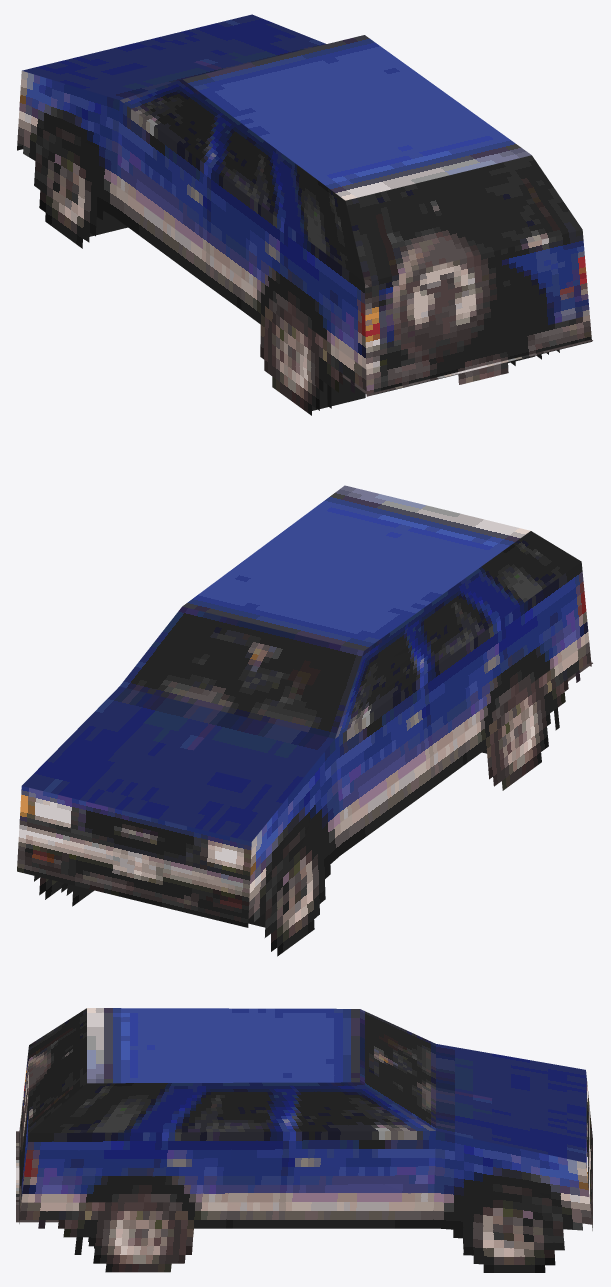
File: car-rodeo.glb
3 renders of one model, top to bottom at view 1: azimuth 30°, elevation 25°; view 2: azimuth 150°, elevation 25°; view 3: azimuth 270°, elevation 25°, orthographic. The views are drawn at different scales.
Visible parts, largest first — view 1: plt0; view 2: plt0; view 3: plt0.
Boxes of the visible parts, x1,y1,x2,y2 form: plt0: (17, 14, 592, 415); plt0: (17, 485, 592, 956); plt0: (16, 1008, 592, 1272).
Size of the model in its own units: 1.73 by 1.55 by 4.55.
Materials: 13 (13 with a texture image).
